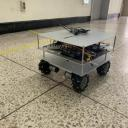cart: (35, 28, 118, 92)
